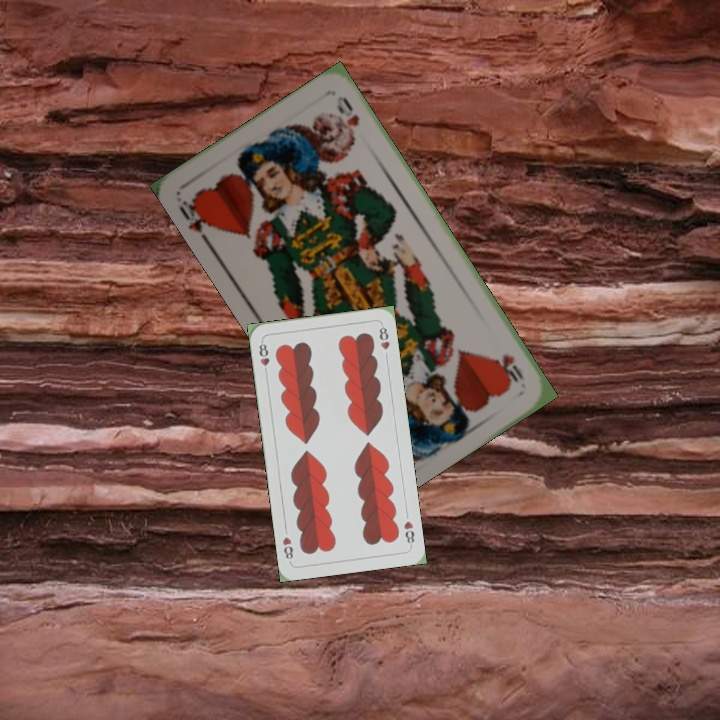H8: (255, 337, 272, 378), (400, 517, 417, 549)
HO: (173, 193, 218, 247), (493, 350, 527, 385)
